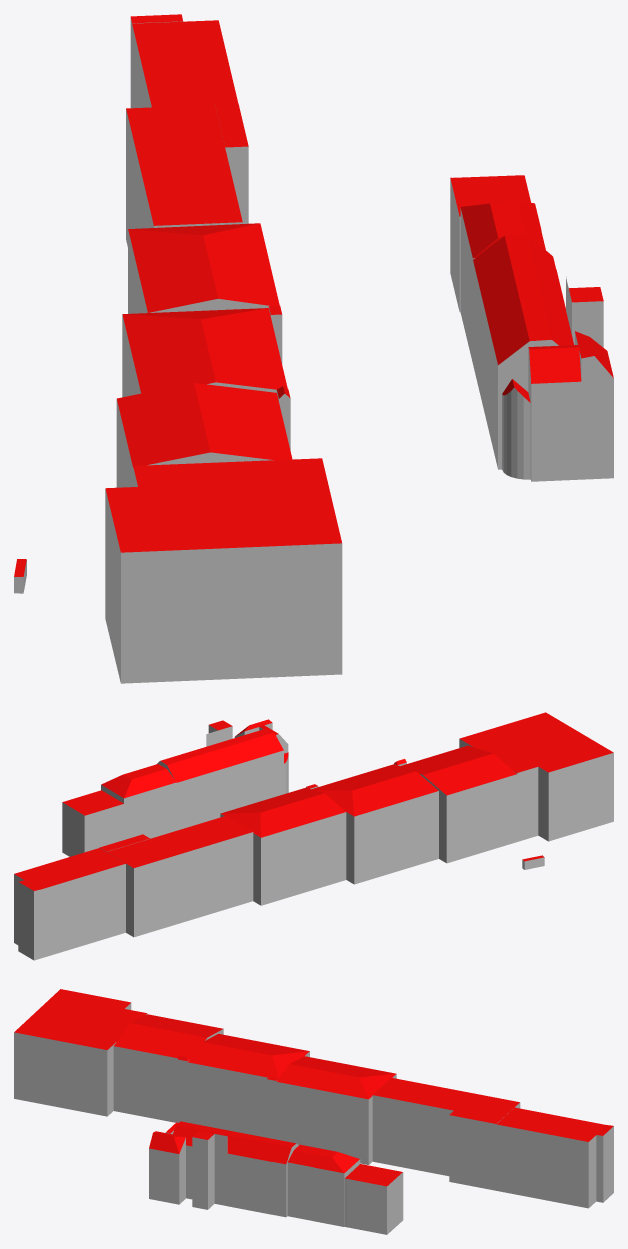
The picture shows the model from 3 angles, top to bottom: view 1: azimuth 30°, elevation 25°; view 2: azimuth 150°, elevation 25°; view 3: azimuth 270°, elevation 25°; orthographic projection. The views are drawn at different scales.
Bounding box in the file's own units: 138 × 25.69 × 195.
